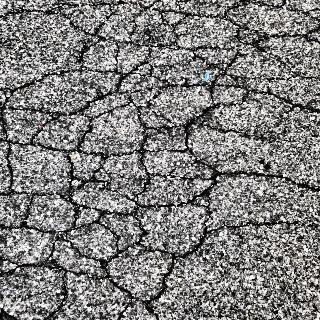alligator-crack: (1, 3, 316, 320)
